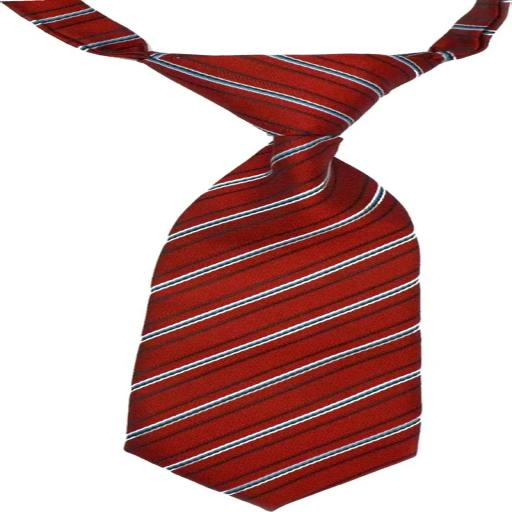tie: (3, 1, 508, 510)
